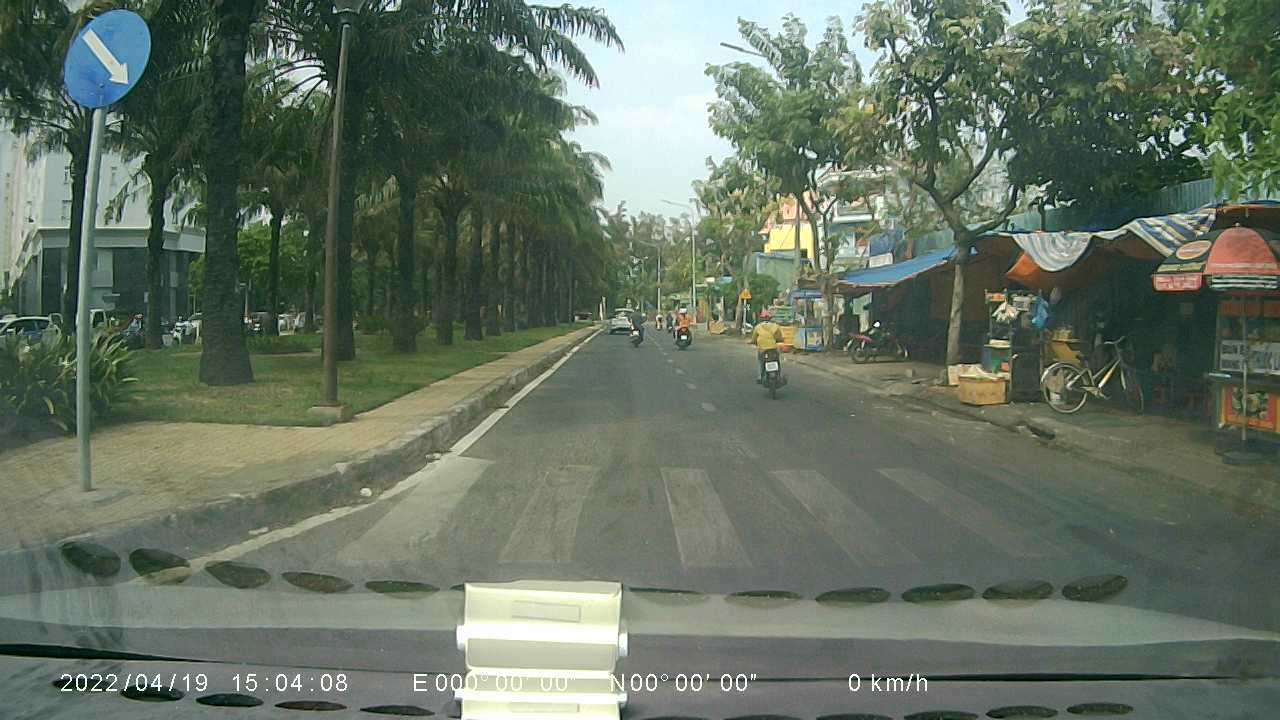Huong di phai re phai: (61, 10, 161, 106)
